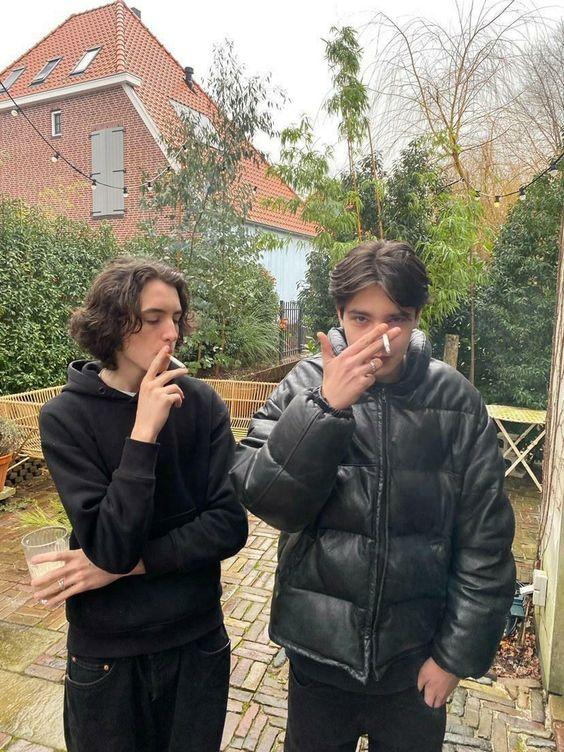cigarette: (166, 353, 186, 368), (383, 333, 390, 353)
